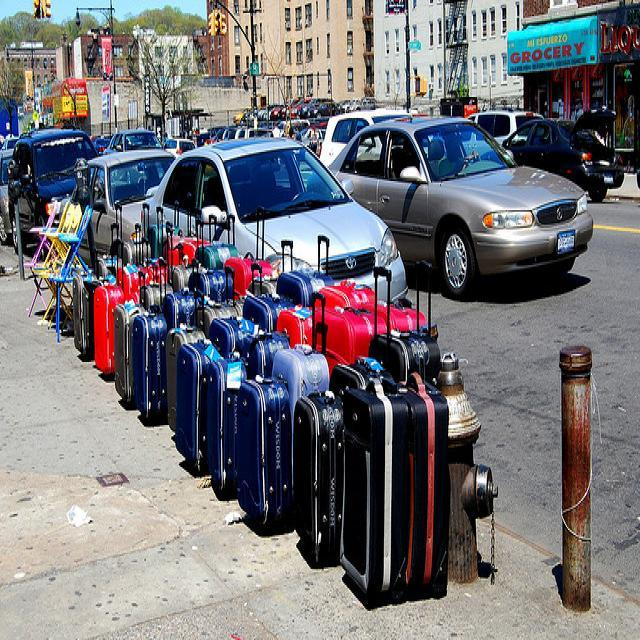fire_hydrant: (437, 348, 500, 586)
